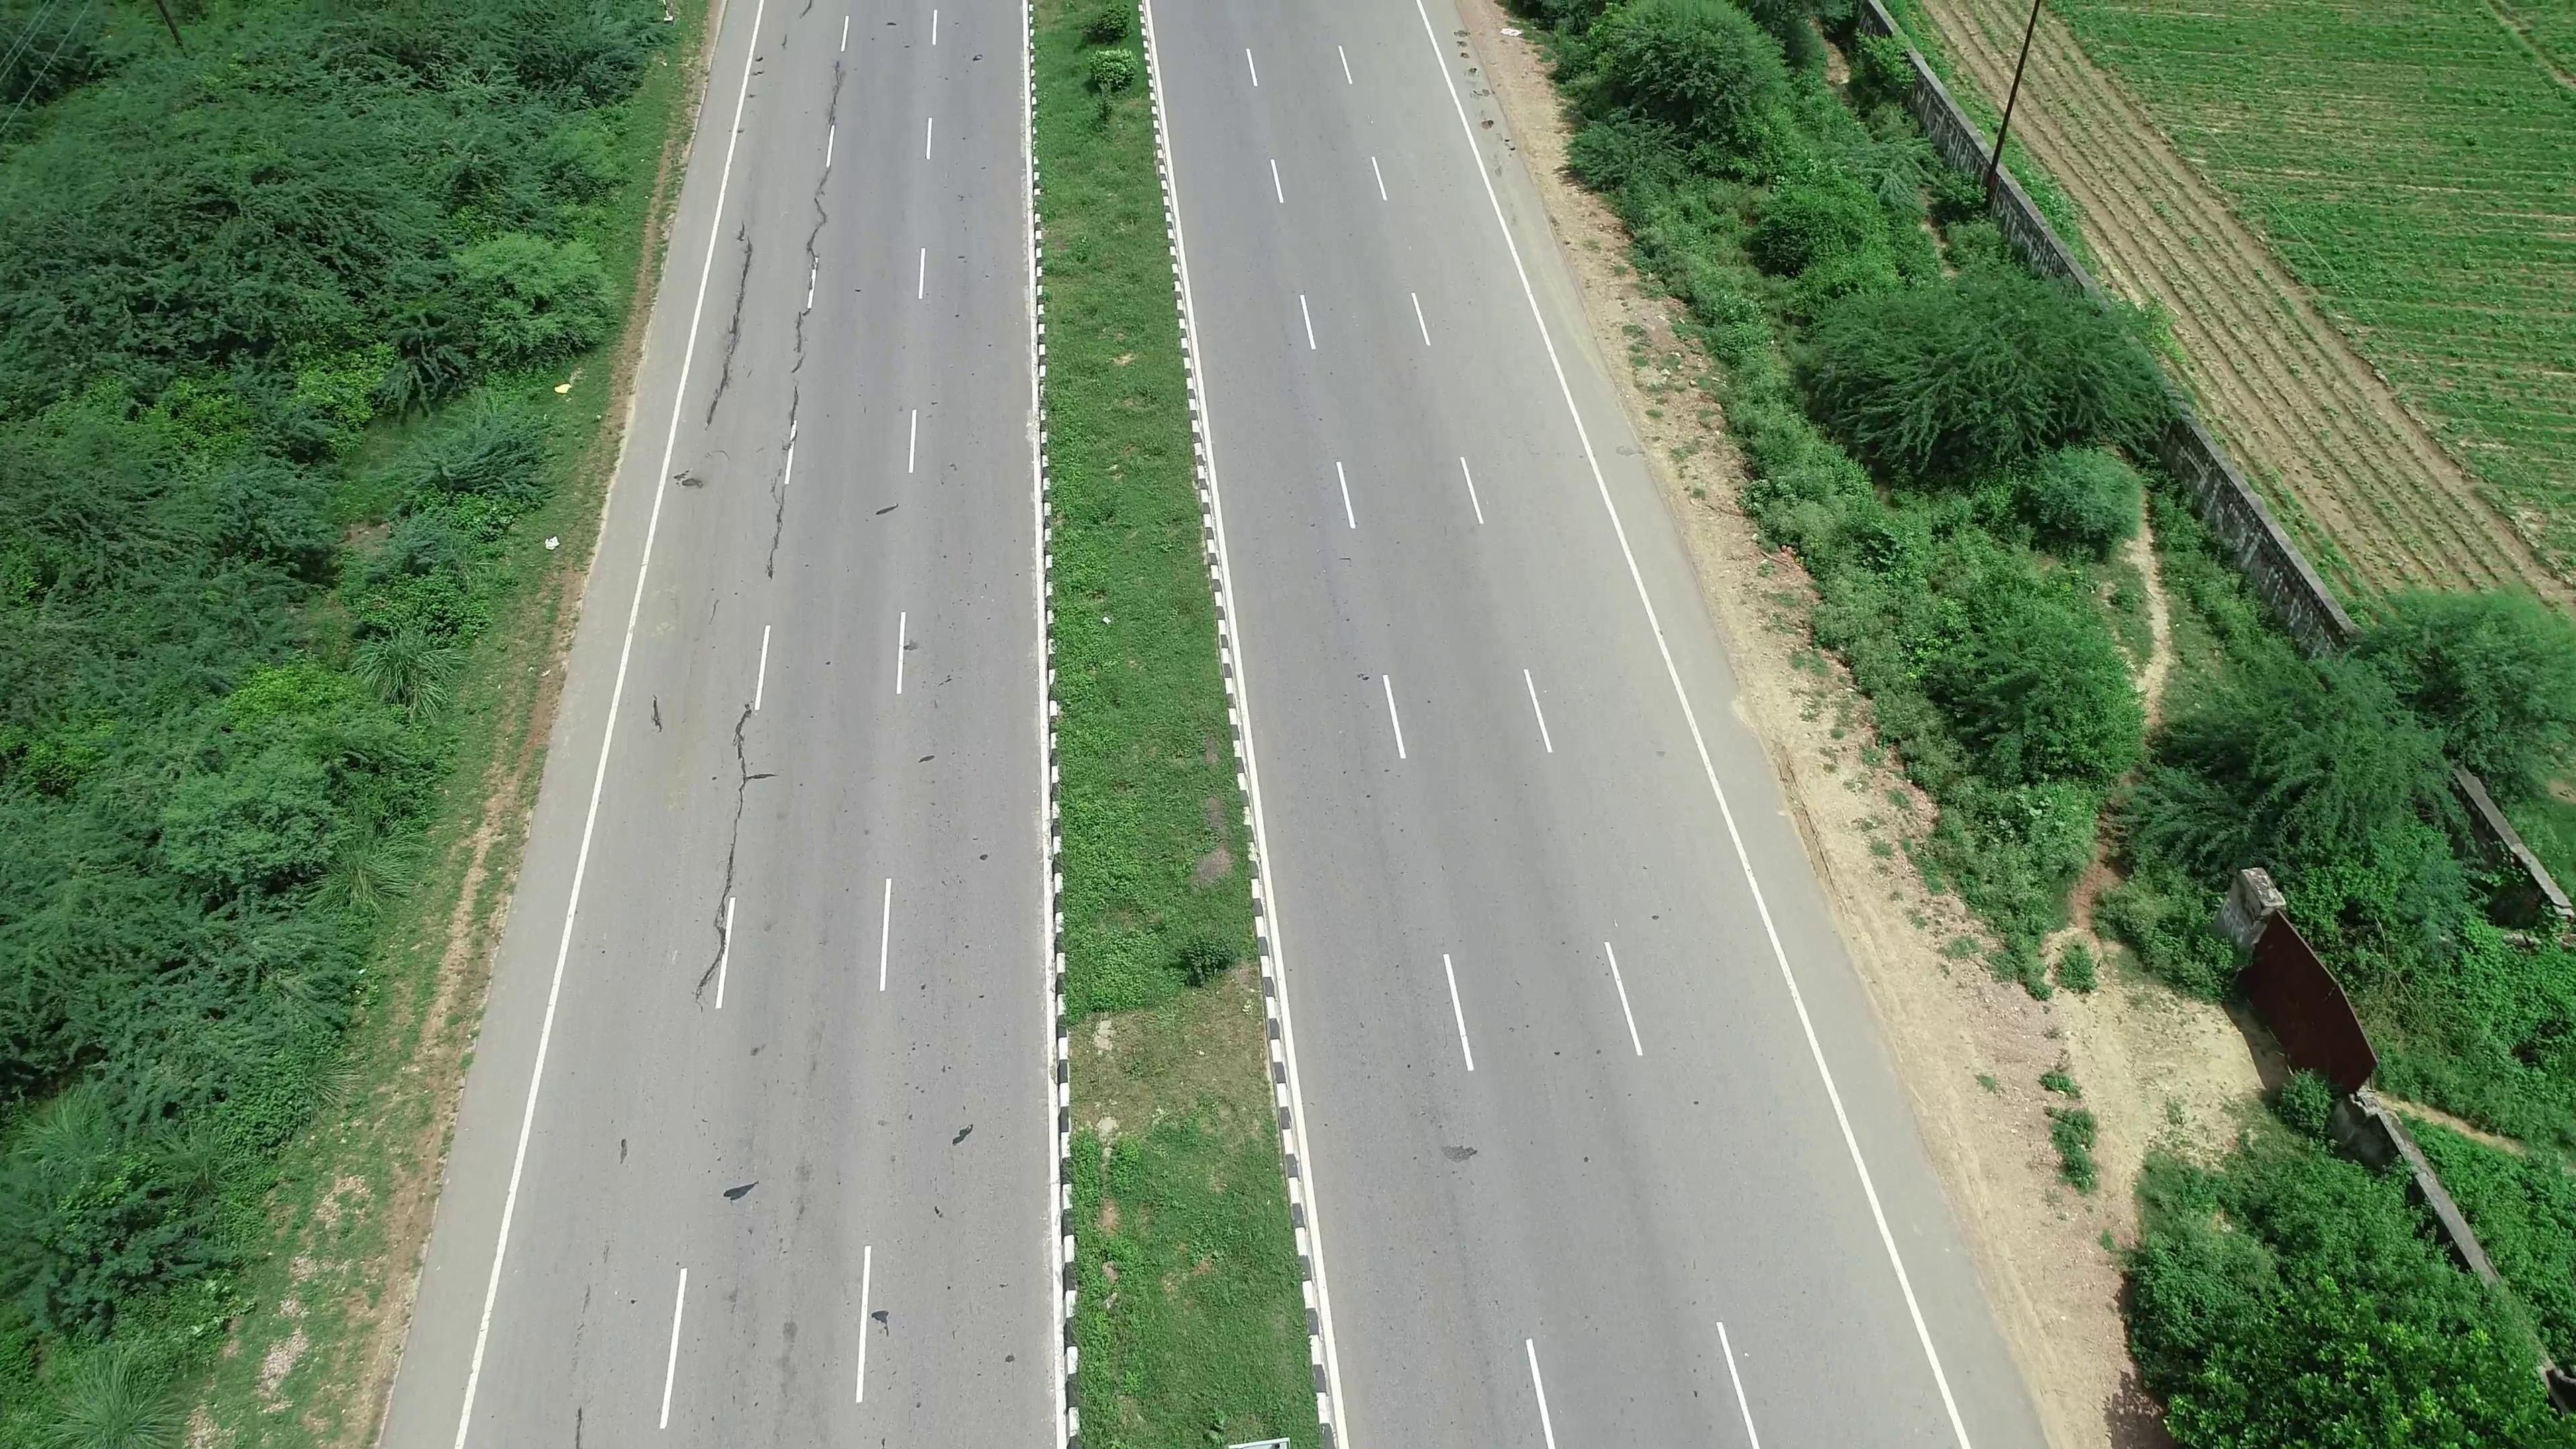Longitudinal_cracks: (763, 67, 847, 586), (676, 708, 771, 1000), (694, 214, 778, 433)
